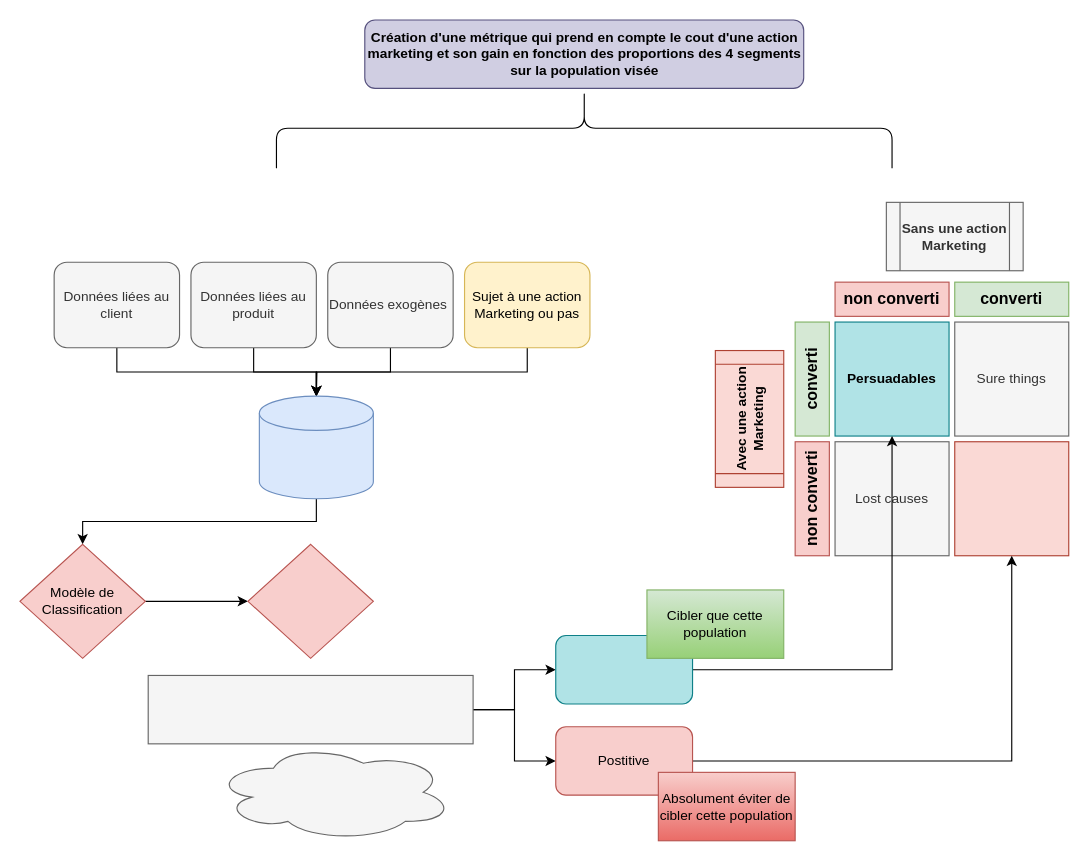
Some shapes in this 1089 by 861 pixel diagram are drawn without their labels. The centre of each missing label's shape, as x and y in pixels:
"Jeu de données" goes at pixel 315 447.
"Modèle de Uplift" goes at pixel 310 600.
"Négative" goes at pixel 624 669.
"P étant la proba de churn" goes at pixel 333 792.
"P(X/ action Marketing) - P(X/ non action Marketing)" goes at pixel 310 709.
"Sleeping dogs" goes at pixel 1011 498.
